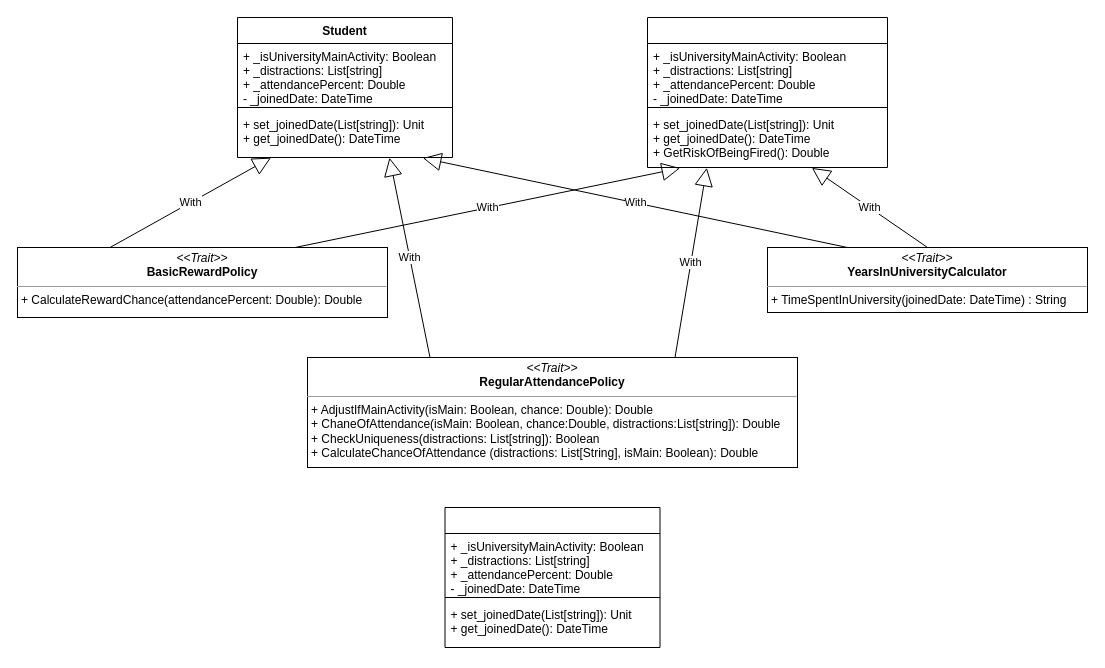
Some shapes in this 1105 by 668 pixel diagram are drawn without their labels. The shapes that lost their labels are listed below. From the top down, each one's box as (x1, y1, x2, y2) in pixels, then its label:
(646, 16, 888, 168): SecurityGuard
(444, 506, 660, 648): Lecturer
